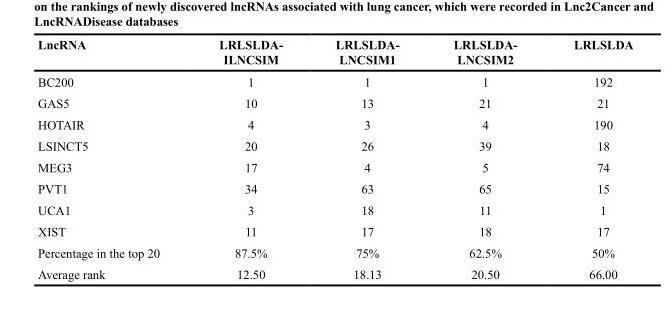table: (37, 36, 632, 280)
table column: (37, 36, 188, 280), (188, 36, 308, 280), (425, 36, 544, 280), (308, 36, 425, 280), (544, 36, 632, 280)
table column header: (37, 36, 632, 70)
table row: (37, 36, 632, 70), (37, 70, 632, 92), (37, 134, 632, 156), (37, 177, 632, 199), (37, 241, 632, 263), (37, 92, 632, 113), (37, 113, 632, 134), (37, 156, 632, 177), (37, 199, 632, 220), (37, 220, 632, 241), (37, 263, 632, 280)
